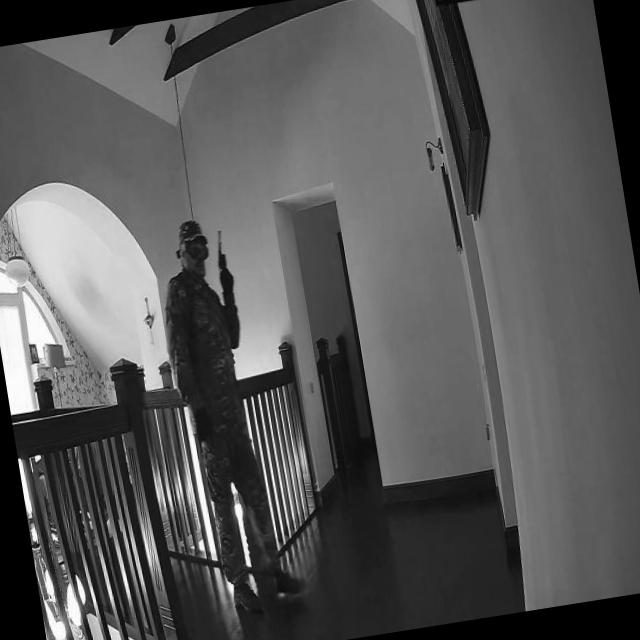gun: (211, 227, 234, 280)
person with a gun: (147, 210, 307, 620)
